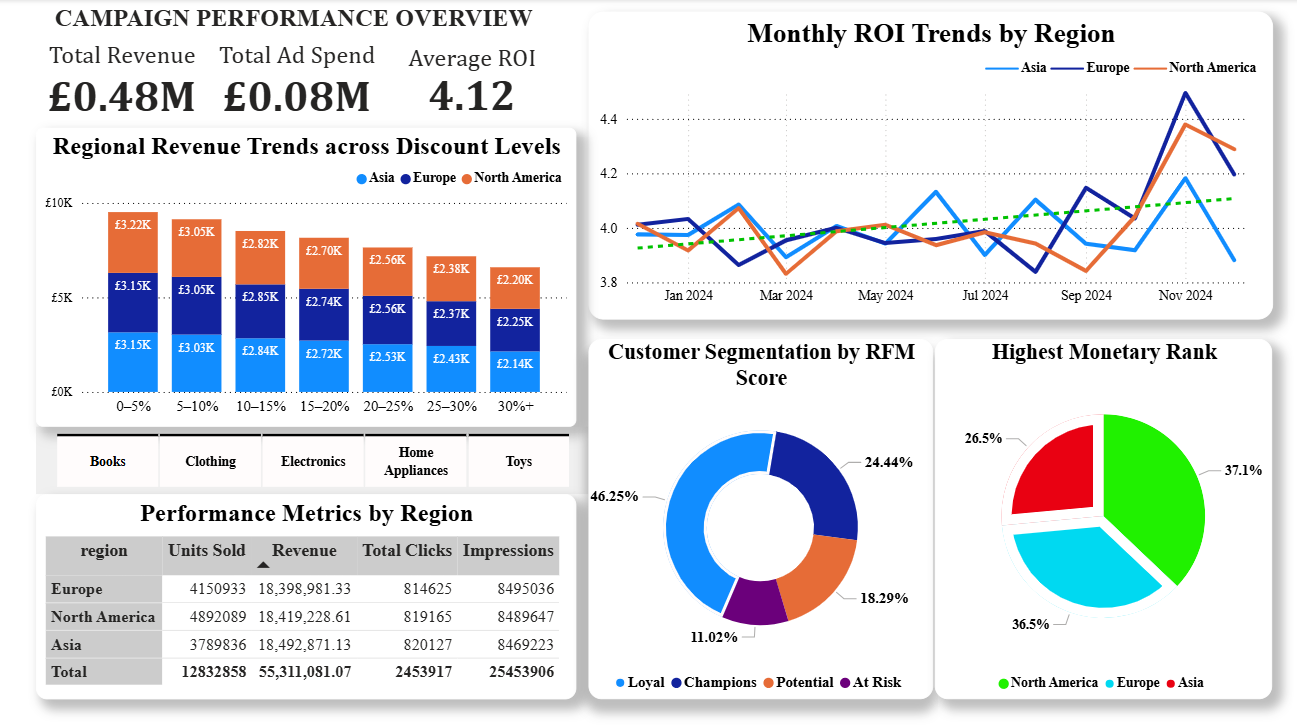

The page's visual inventory and layout, read from the dashboard file:
{"tool":"powerbi","page":{"name":"Page 1","canvas":[1280,720],"ordinal":0},"visuals":[{"type":"kpi","title":"Total Revenue","fields":{"Indicator":["Sum(weekly_roi_trends.total_revenue)"],"TrendLine":["weekly_roi_trends.total_revenue"]},"box":[39.3,42.9,169.3,83.4],"z":0},{"type":"textbox","box":[32.9,0,518.7,42.5],"z":1000},{"type":"kpi","title":"Total Ad Spend","fields":{"Indicator":["Sum(weekly_roi_trends.total_ad_spend)"],"TrendLine":["weekly_roi_trends.total_ad_spend"]},"box":[208.6,42.9,174.2,83.4],"z":2000},{"type":"kpi","title":"Average ROI","fields":{"Indicator":["weekly_roi_trends.OverallROI"],"TrendLine":["weekly_roi_trends.week_start"]},"box":[382.8,42.9,169.3,72.4],"z":3000},{"type":"lineChart","title":"Monthly ROI Trends by Region","fields":{"Series":["weekly_roi_trends.region"],"Y":["weekly_roi_trends.OverallROI"],"Category":["weekly_roi_trends.week_start.Variation.Date Hierarchy.Year","weekly_roi_trends.week_start.Variation.Date Hierarchy.Quarter","weekly_roi_trends.week_start.Variation.Date Hierarchy.Month"]},"box":[582.2,12.4,671.7,302.3],"z":4000},{"type":"pivotTable","title":"Performance Metrics by Region","fields":{"Values":["Sum(Funnel_Metrics.total_units_sold)","Sum(Funnel_Metrics.total_revenue)","Sum(Funnel_Metrics.total_clicks)1","Sum(Funnel_Metrics.total_impressions)"],"Rows":["Funnel_Metrics.region"]},"box":[39.3,485.9,530.1,201.2],"z":5000},{"type":"columnChart","title":"Regional Revenue Trends across Discount Levels","fields":{"Category":["discount_bucket_revenue.discount_bucket"],"Y":["Sum(discount_bucket_revenue.avg_revenue)"],"Series":["discount_bucket_revenue.region"]},"box":[39.3,126.4,530.1,293.3],"z":6000},{"type":"slicer","fields":{"Values":["discount_bucket_revenue.category"]},"box":[39.3,419.6,542.3,66.3],"z":7000},{"type":"donutChart","title":"Customer Segmentation by RFM Score","fields":{"Category":["rfm_scores.RFM_Segment"],"Y":["Sum(rfm_scores.rfm_score)"]},"box":[581.6,333.7,338,353.4],"z":8000},{"type":"pieChart","title":"Highest Monetary Rank","fields":{"Category":["customer segmentation by region.region"],"Y":["Sum(customer segmentation by region.monetary_rank)"]},"box":[921.5,333.7,331.3,353.4],"z":9000}]}

Visuals, with their boxes in screenshot pixels (x1, y1, x2, y2), scaled from the page's 1280x720 canvas onto the 1297x727 screenshot:
"Total Revenue" kpi: box=[40, 43, 211, 128]
textbox: box=[33, 0, 559, 43]
"Total Ad Spend" kpi: box=[211, 43, 388, 128]
"Average ROI" kpi: box=[388, 43, 559, 116]
"Monthly ROI Trends by Region" lineChart: box=[590, 13, 1271, 318]
"Performance Metrics by Region" pivotTable: box=[40, 491, 577, 694]
"Regional Revenue Trends across Discount Levels" columnChart: box=[40, 128, 577, 424]
slicer - discount_bucket_revenue.category: box=[40, 424, 589, 491]
"Customer Segmentation by RFM Score" donutChart: box=[589, 337, 932, 694]
"Highest Monetary Rank" pieChart: box=[934, 337, 1269, 694]
